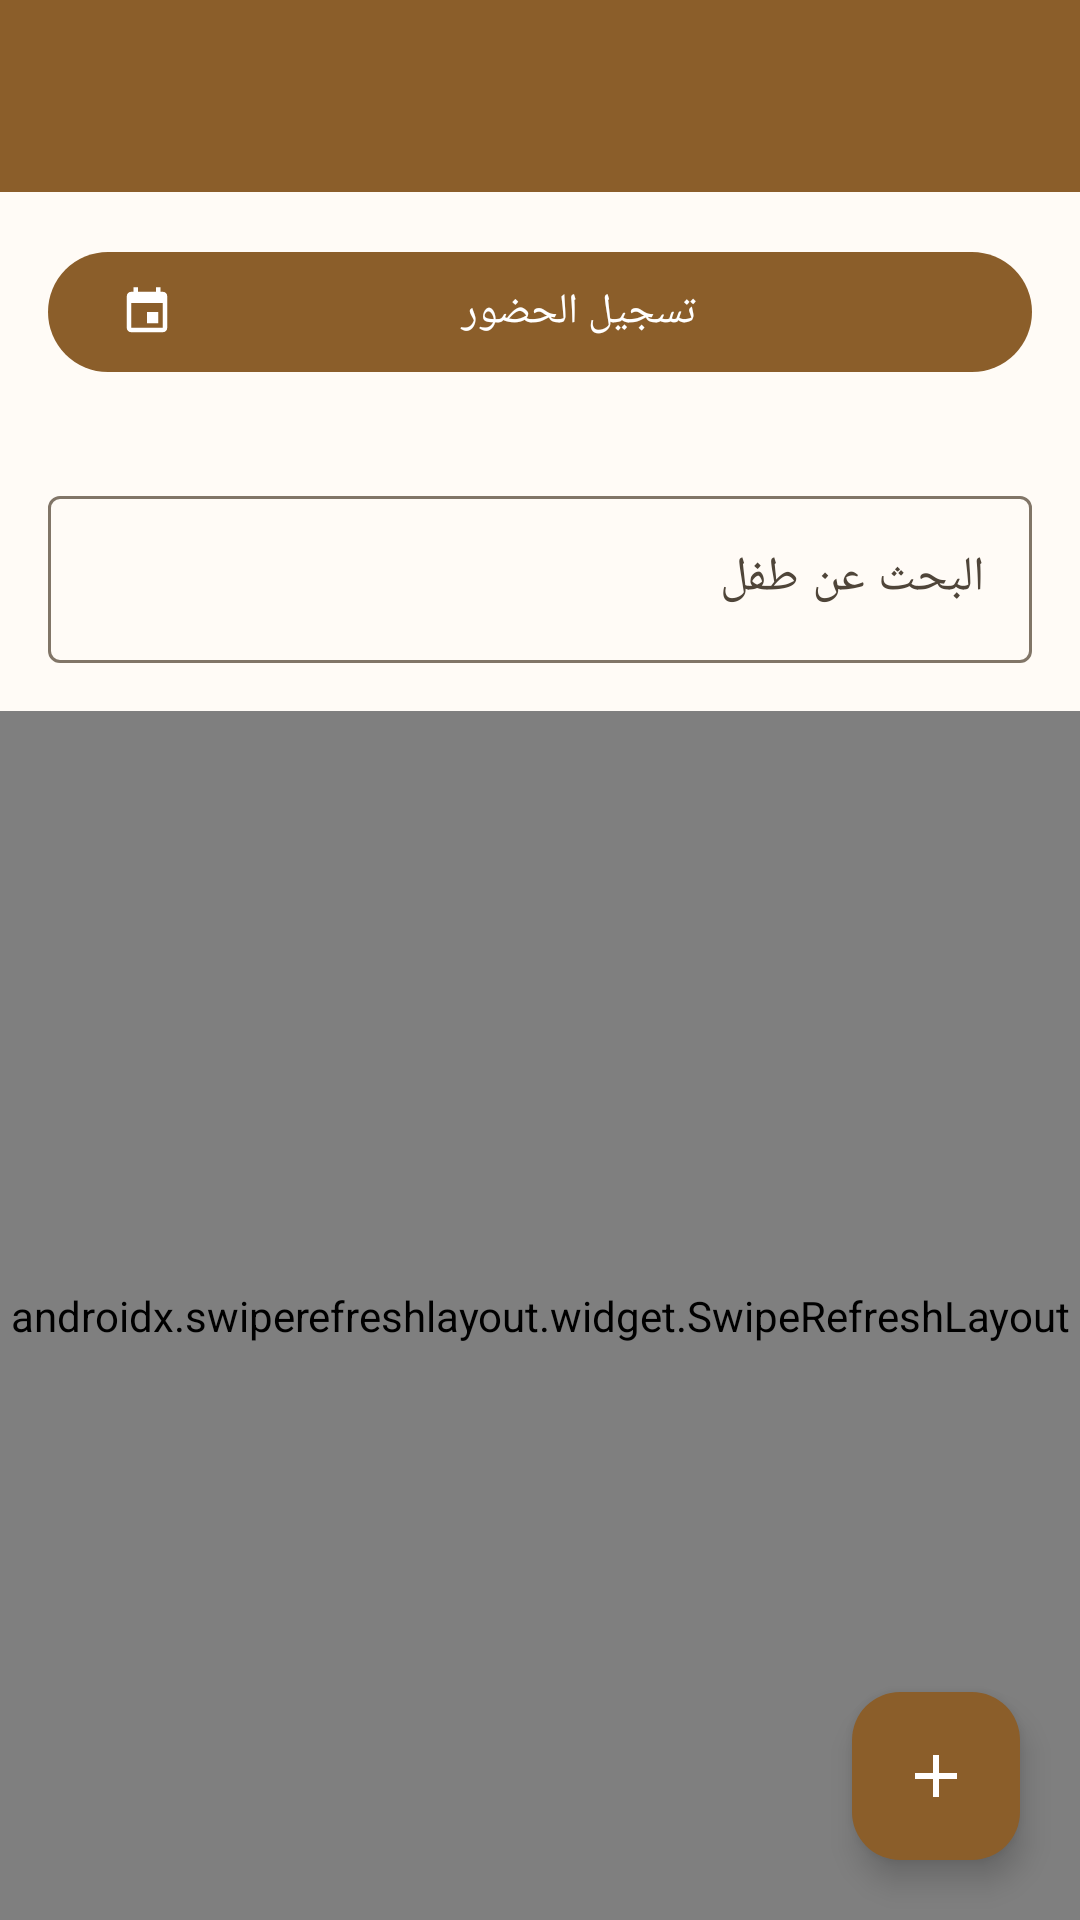

Named icons in this screenshot (1080*1920) and their bounding boxes, bbox=[x1, y1, x2, y2]:
إضافة طفل: bbox=[852, 1692, 1020, 1860]
